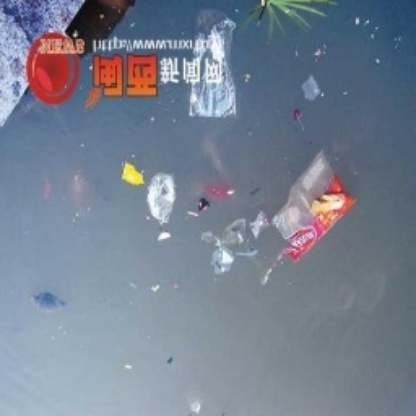plastic-bag: (272, 152, 359, 260), (144, 170, 178, 222)
